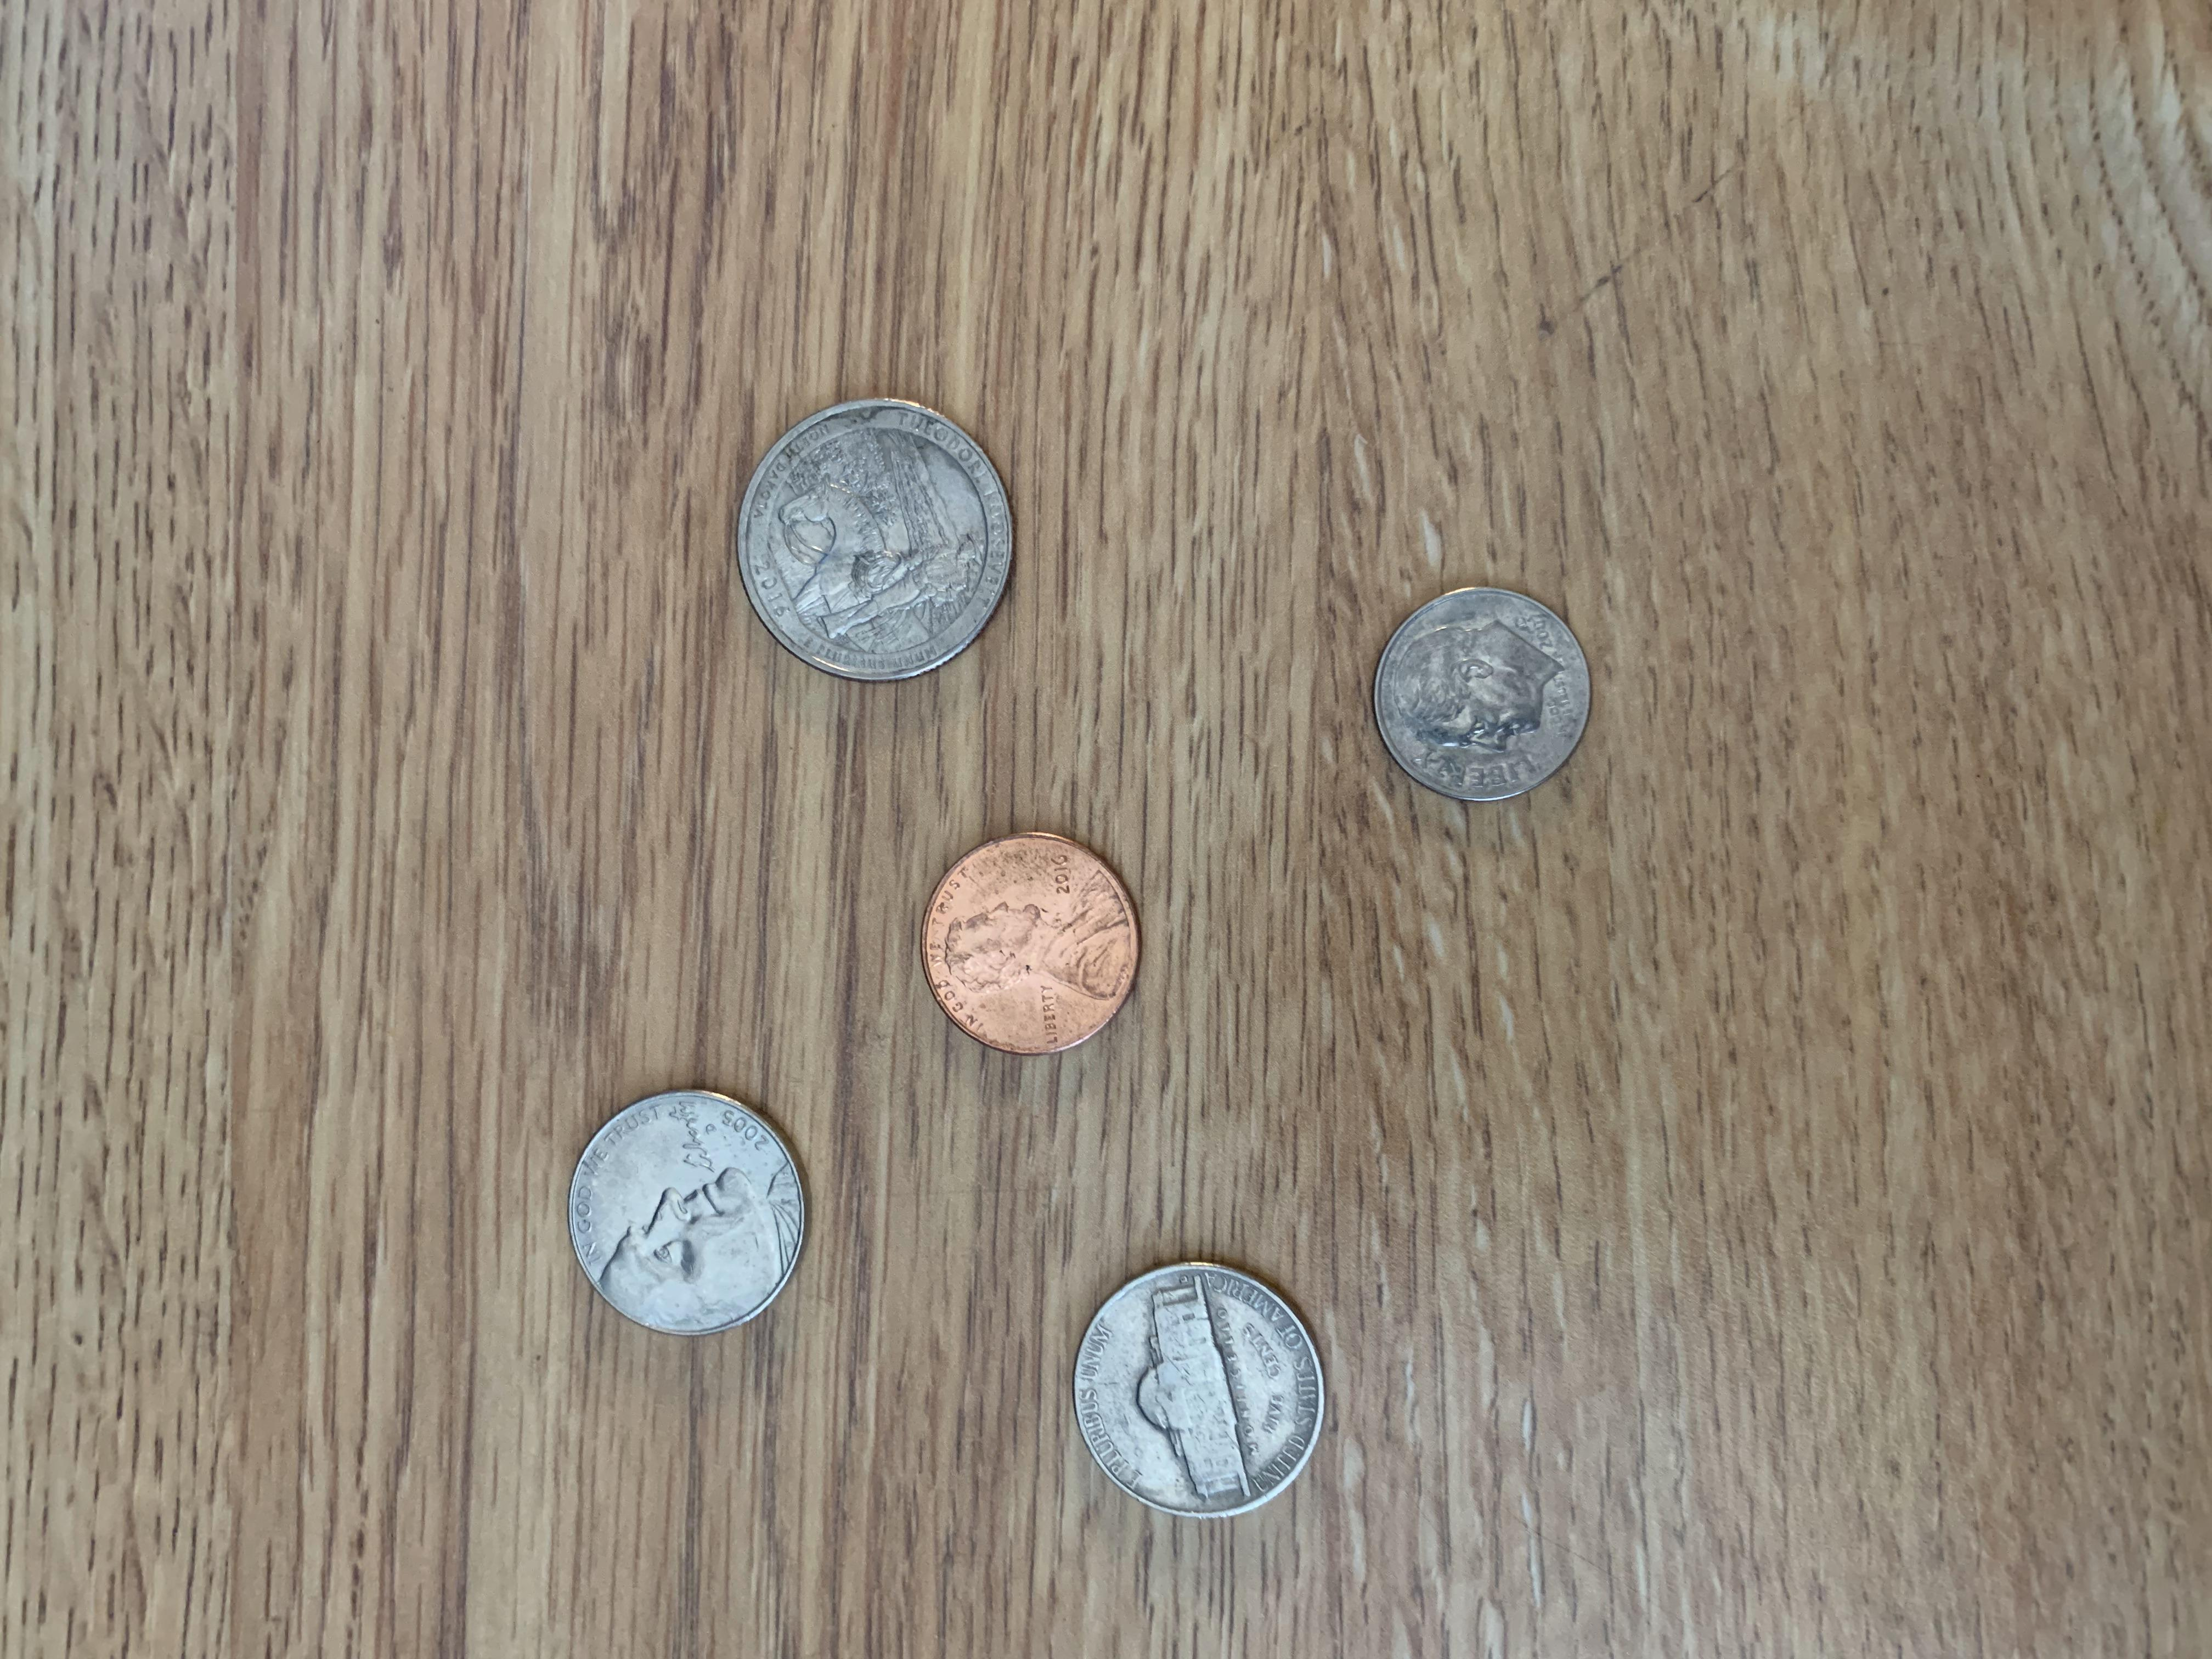Dime: (1366, 582, 1599, 809)
Nickel: (1059, 1255, 1336, 1528), (559, 1082, 819, 1349)
Penny: (907, 824, 1151, 1066)
Quarter: (726, 392, 1021, 692)
